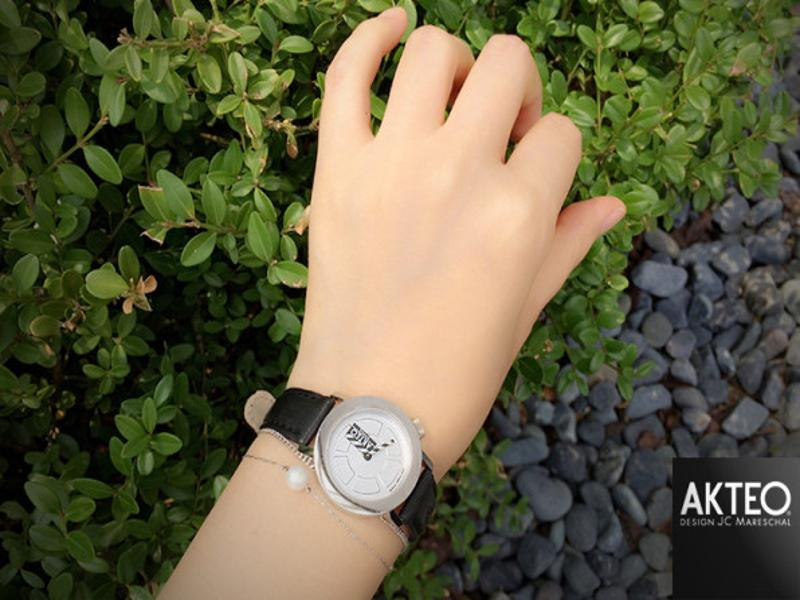watch: (240, 385, 438, 554)
